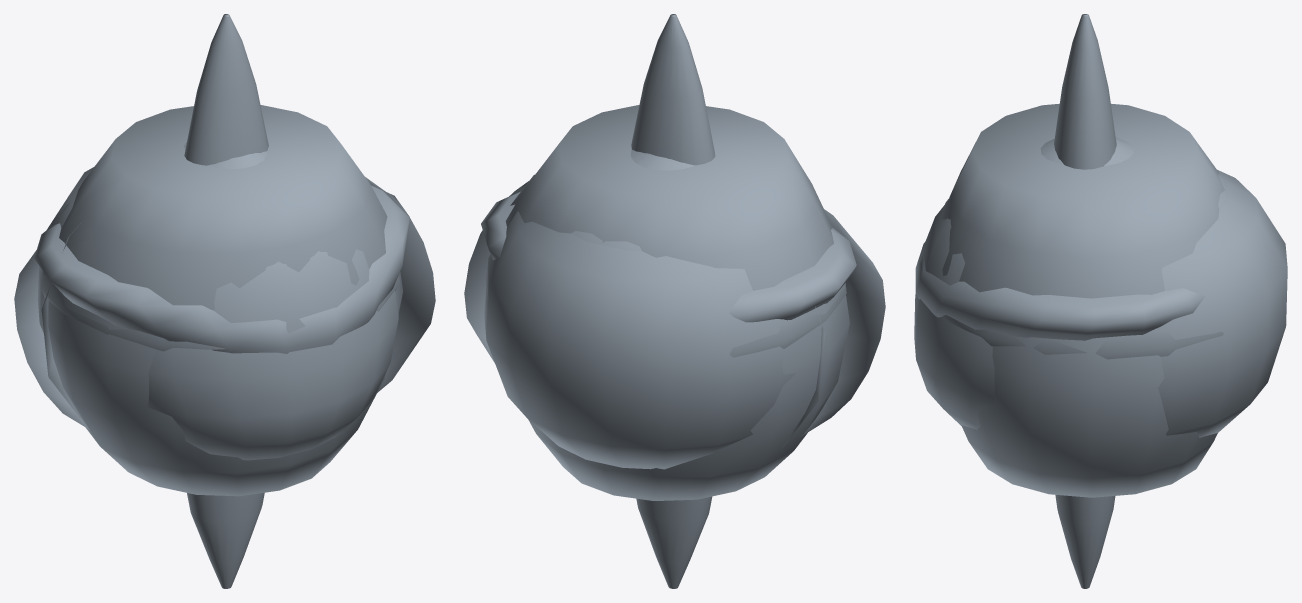
File: rowplay-rigs-v2.glb
The picture shows the model from 3 angles, left to right: view 1: azimuth 30°, elevation 25°; view 2: azimuth 150°, elevation 25°; view 3: azimuth 270°, elevation 25°; orthographic projection.
Parts seen in each view (by area): view 1: athlete:pelvis, athlete:head, athlete:torso, equipment:row:hull, athlete:shoulder, athlete:helmet, athlete:hair, athlete:thigh; view 2: athlete:hair, athlete:pelvis, equipment:row:hull, athlete:shoulder, athlete:torso, athlete:helmet, athlete:thigh; view 3: athlete:pelvis, athlete:hair, athlete:torso, equipment:row:hull, athlete:head, athlete:helmet.
Boxes of the visible parts, x1,y1,x2,y2 form: athlete:pelvis: [41, 105, 403, 496]; athlete:head: [148, 249, 398, 460]; athlete:torso: [34, 185, 409, 353]; equipment:row:hull: [184, 14, 268, 588]; athlete:shoulder: [14, 177, 435, 429]; athlete:helmet: [38, 265, 399, 351]; athlete:hair: [37, 142, 327, 333]; athlete:thigh: [41, 141, 186, 418]; athlete:hair: [484, 149, 795, 469]; athlete:pelvis: [505, 105, 849, 500]; equipment:row:hull: [631, 14, 715, 588]; athlete:shoulder: [464, 181, 885, 436]; athlete:torso: [481, 191, 856, 322]; athlete:helmet: [485, 266, 846, 357]; athlete:thigh: [510, 155, 825, 447]; athlete:pelvis: [941, 103, 1225, 497]; athlete:hair: [945, 137, 1287, 437]; athlete:torso: [915, 241, 1204, 340]; equipment:row:hull: [1054, 14, 1116, 588]; athlete:head: [914, 174, 1227, 429]; athlete:helmet: [943, 315, 1223, 359].
Size of the model in its own units: 2.4 by 3.8 by 2.25.
